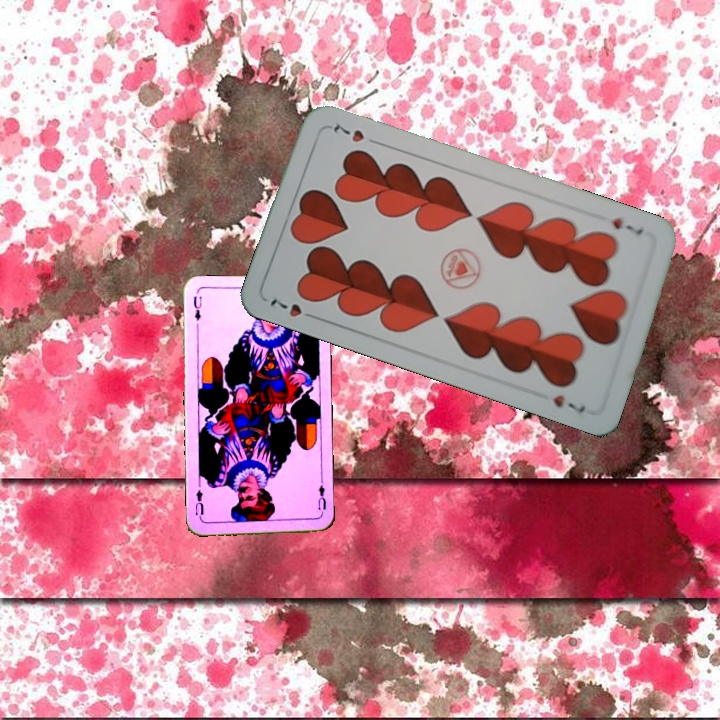EU: (314, 477, 329, 512), (190, 292, 204, 323)
H7: (265, 294, 321, 322), (607, 213, 646, 238)
